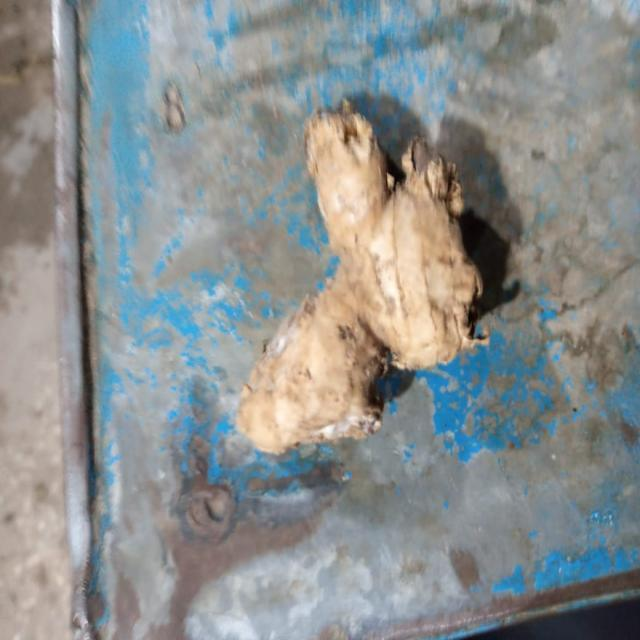ginger: (305, 123, 484, 363)
